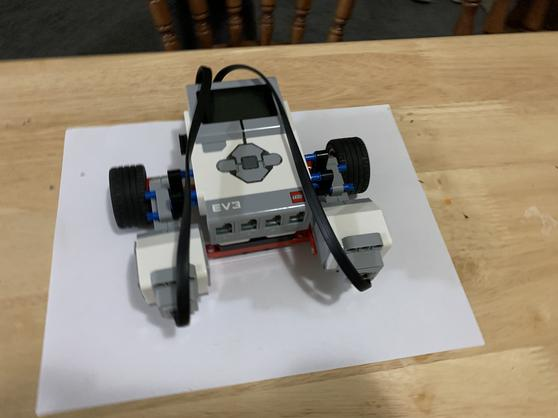robot: (99, 63, 421, 334)
